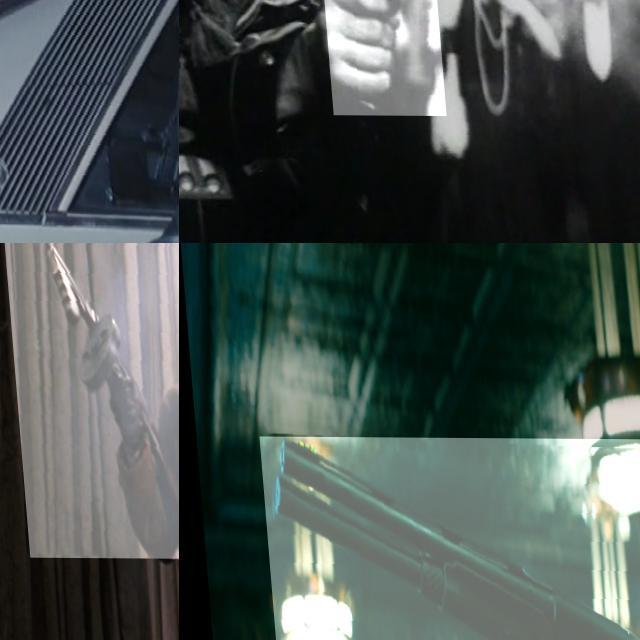gun-knife-thesis - v11 Yolov5 augmented: (254, 436, 640, 640), (0, 243, 179, 558), (315, 0, 440, 115)
